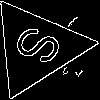S: (11, 22, 73, 73)
